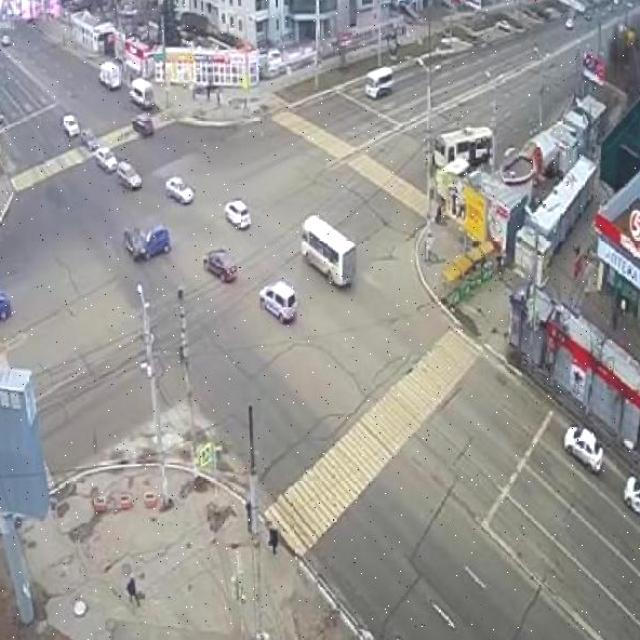accident: (110, 209, 179, 273)
